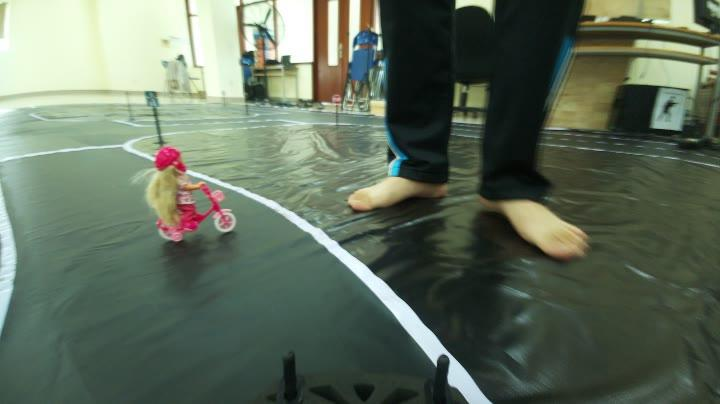pedestrian: (142, 144, 256, 252)
